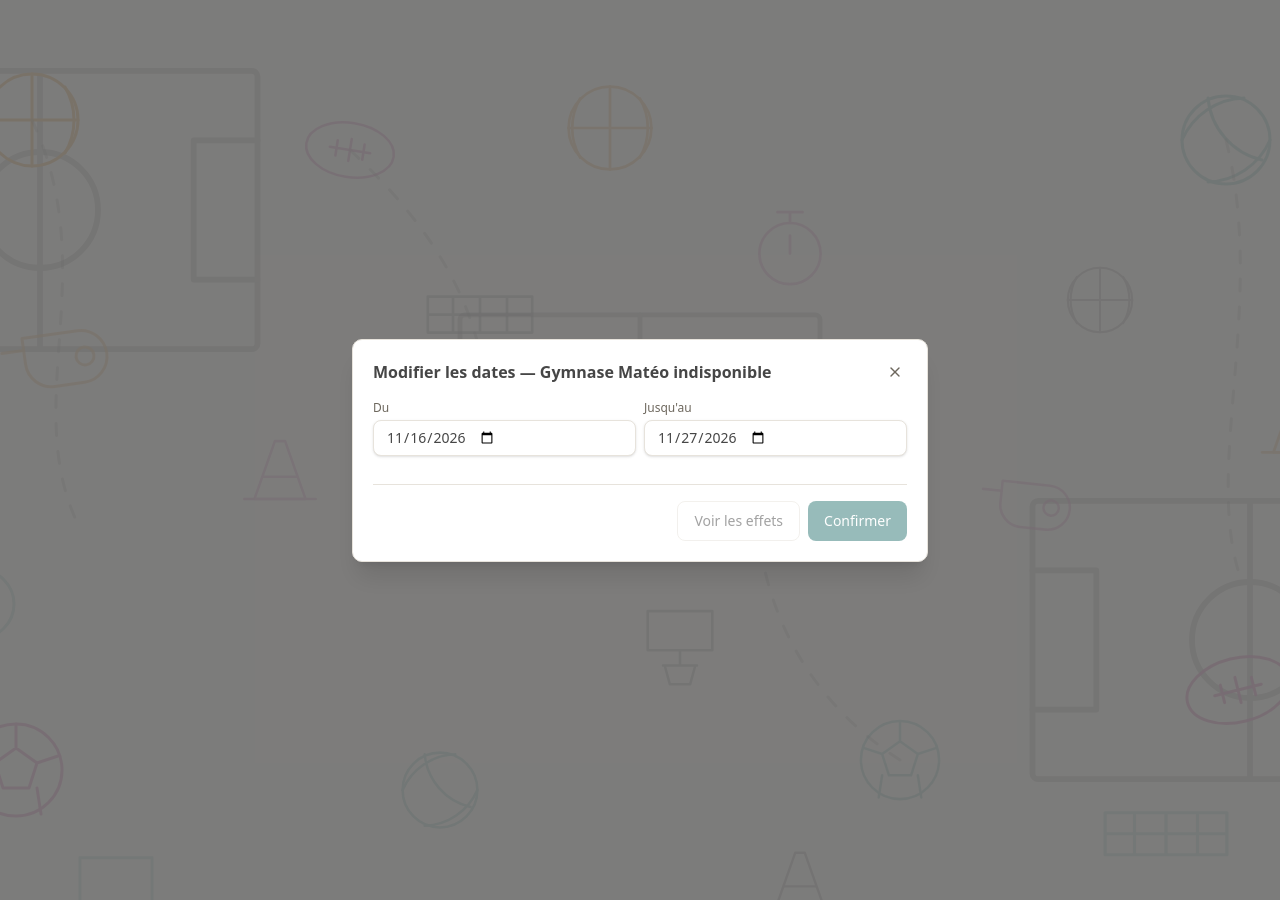
Test case: ClosureWindowDialog — « Confirmer » n'applique QUE l'aperçu vu › une retouche de date PÉRIME l'aperçu : la liste disparaît et « Confirmer » se re-désactive
Type "2026-12-18" into the date field labelled "Jusqu'au" at (776, 438), box x1=644 y1=420 x2=907 y2=456
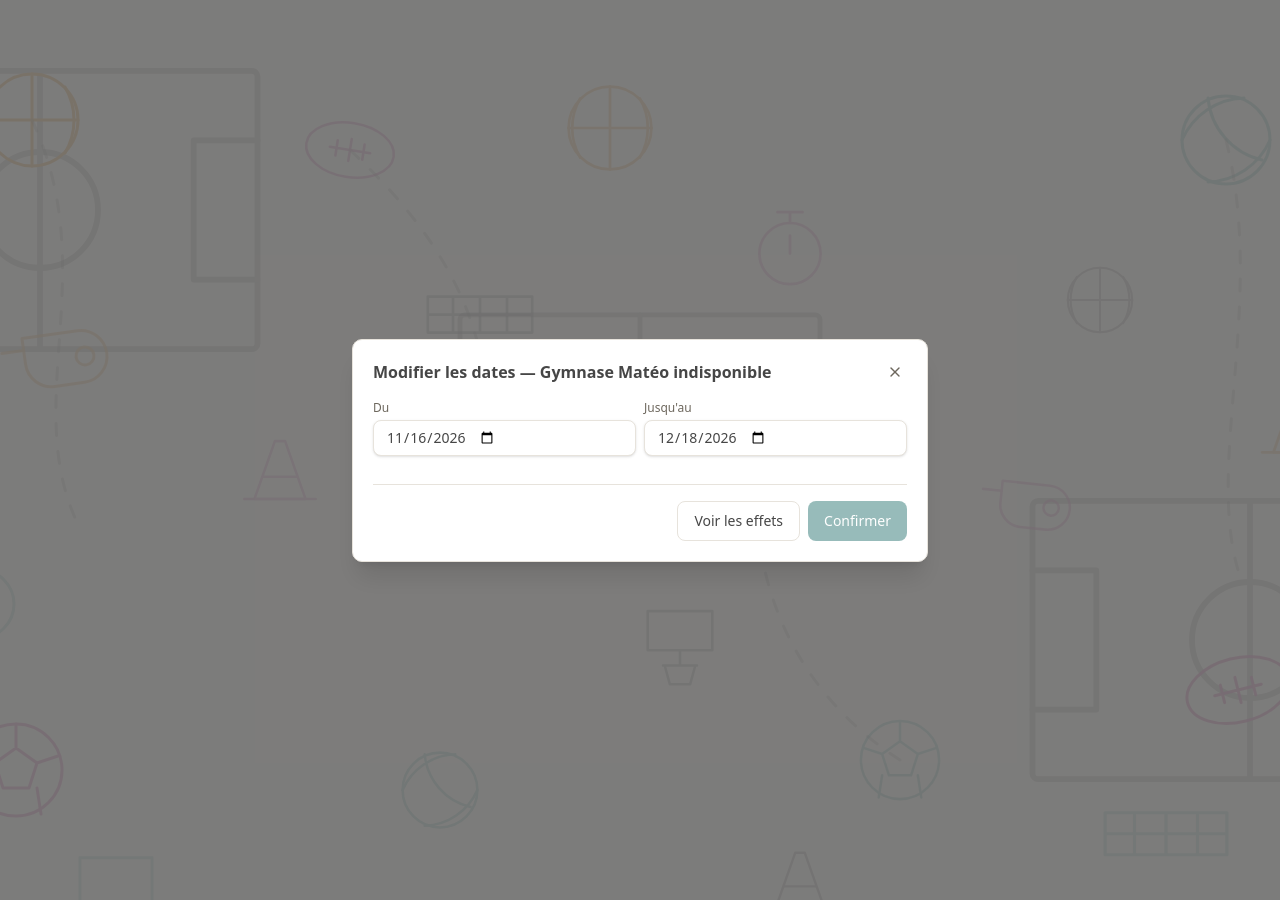
Click the button "Voir les effets" at (739, 520), box x1=677 y1=500 x2=800 y2=540
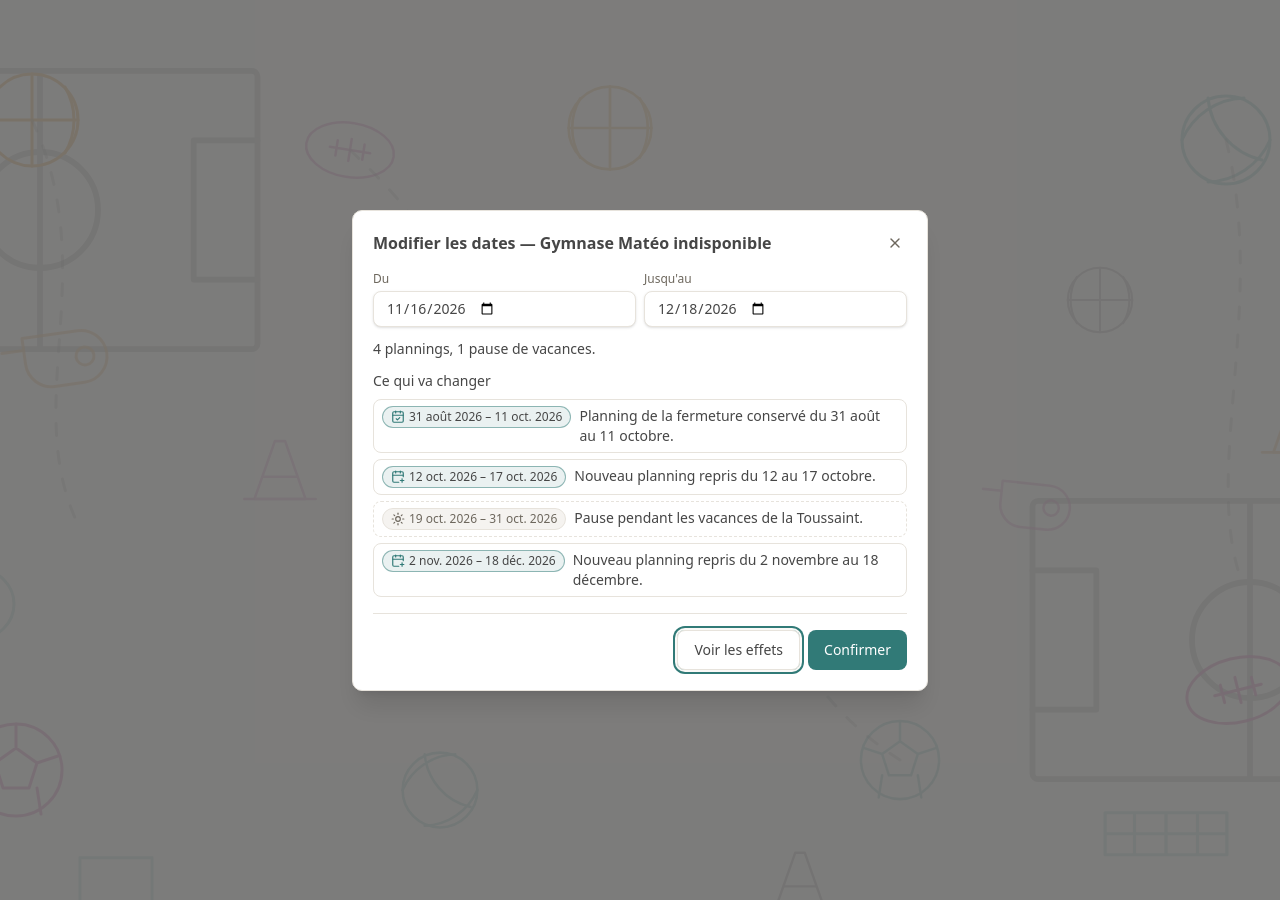
Now the text "Planning de la fermeture conservé du 31 août au 11 octobre." is shown, box x1=579 y1=406 x2=898 y2=446
Type "2026-12-11" into the date field labelled "Jusqu'au" at (776, 308), box x1=644 y1=290 x2=907 y2=326
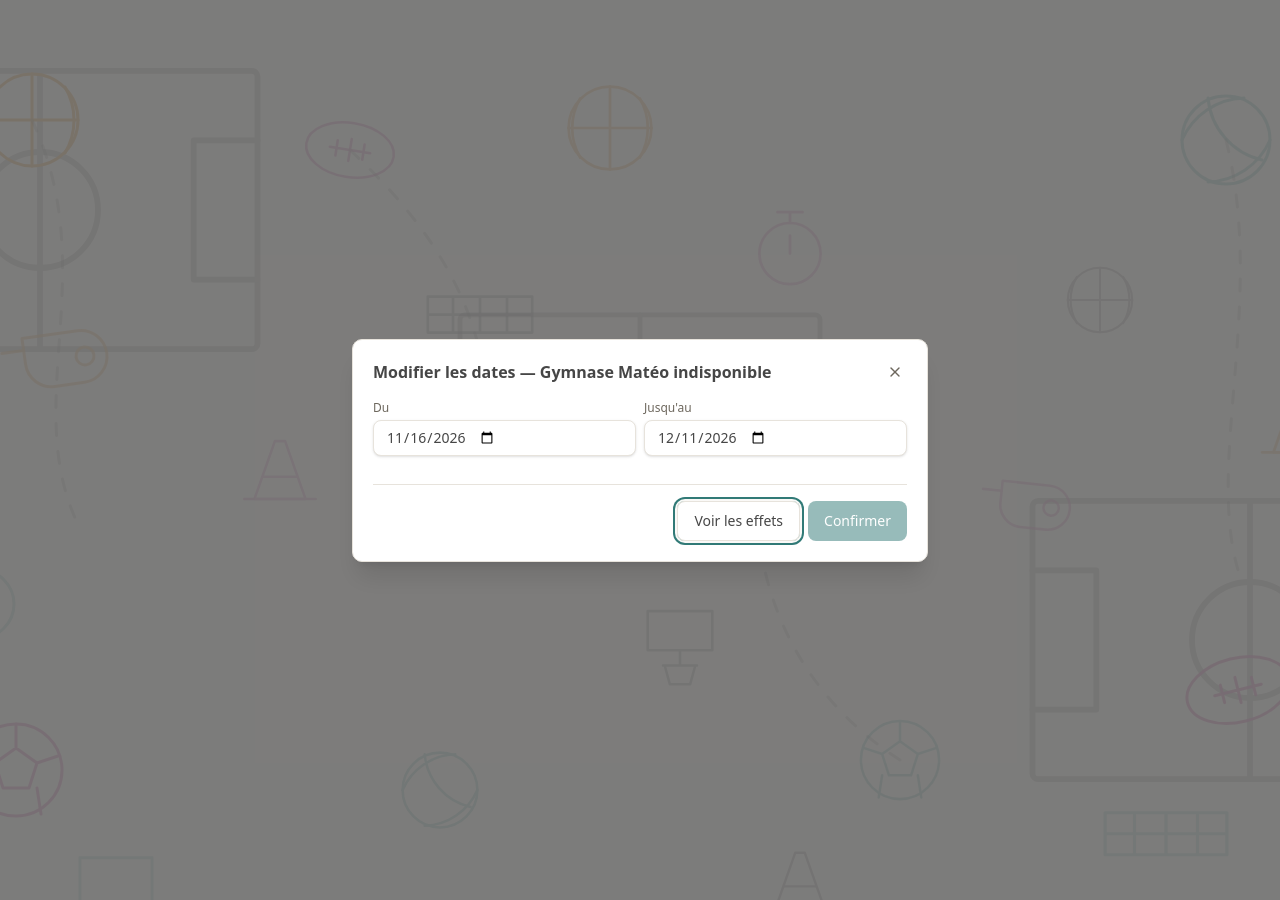
Now the text "Planning de la fermeture conservé du 31 août au 11 octobre." is gone
